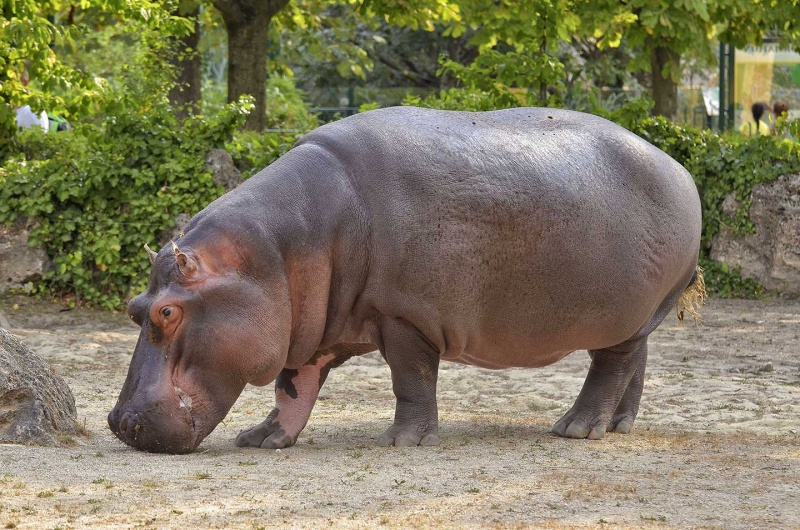hipopotamo: (106, 105, 704, 454)
